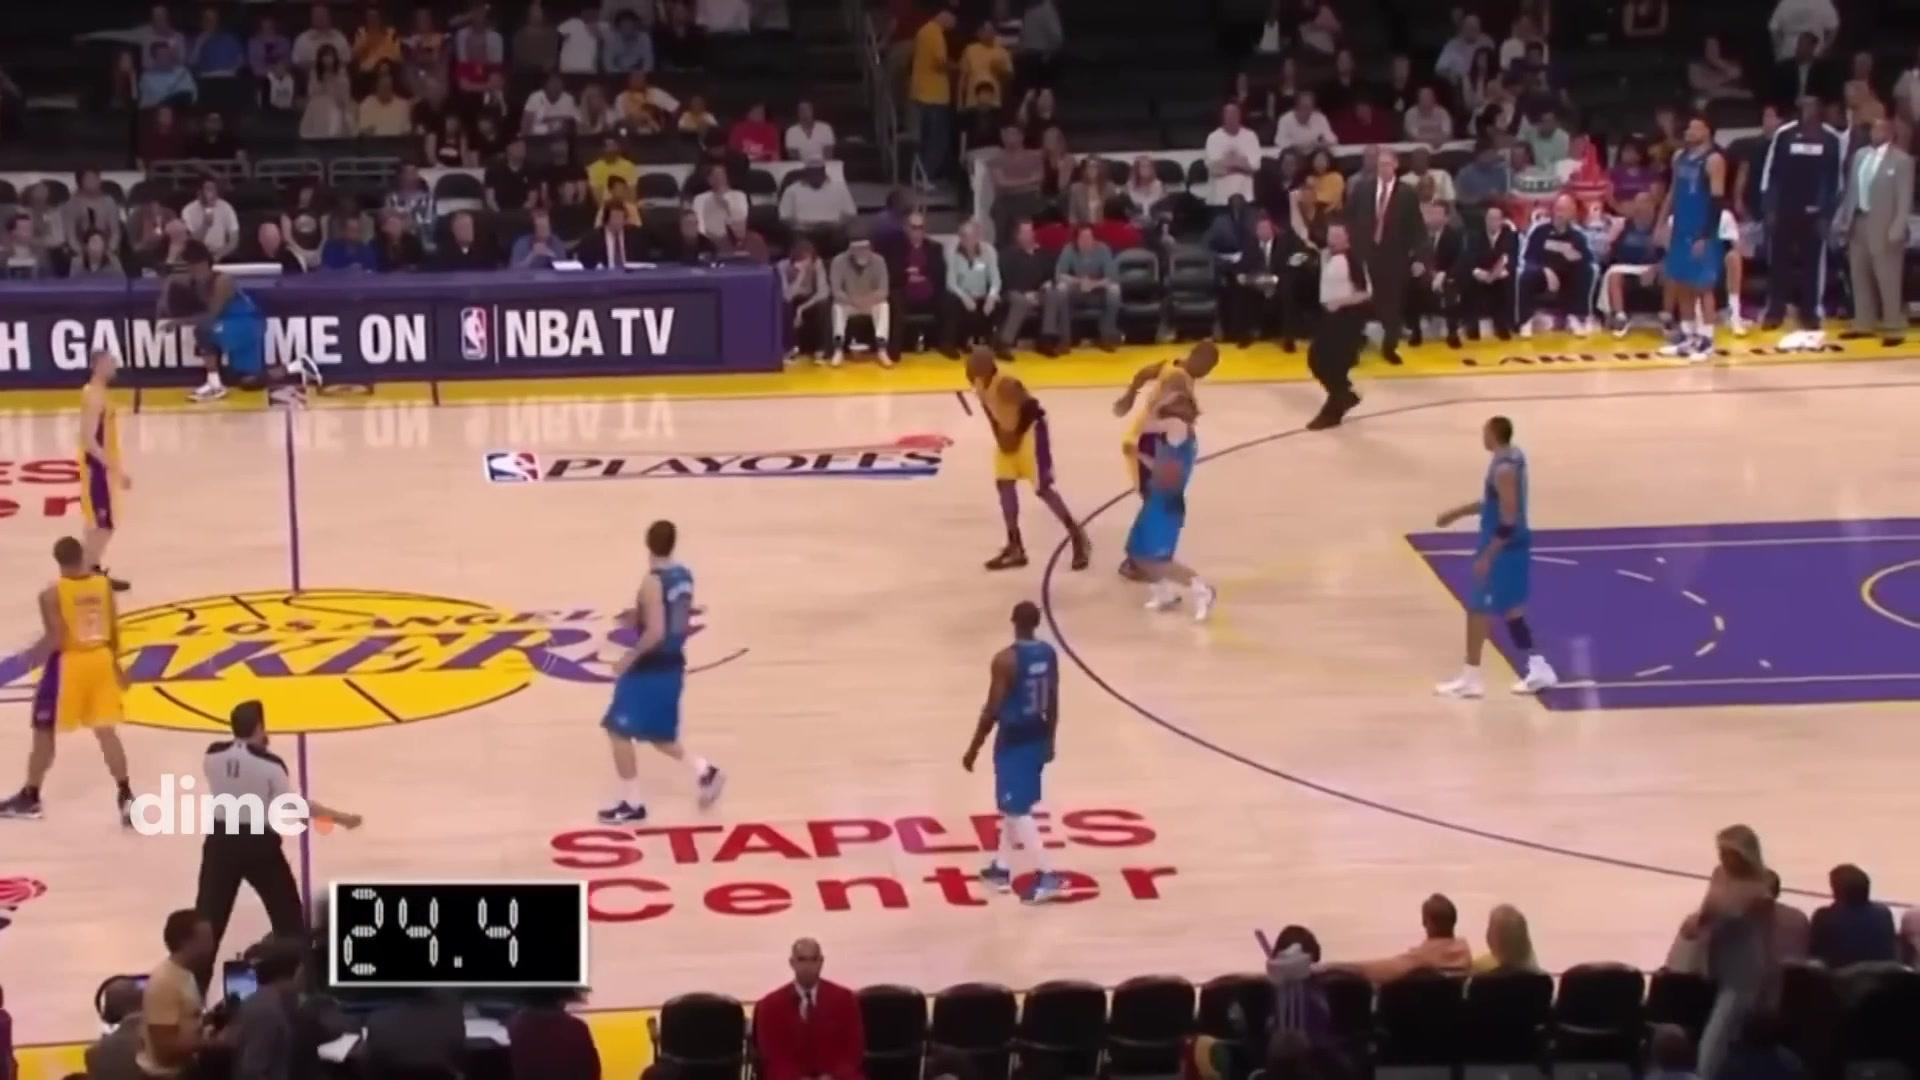foul: (1088, 322, 1222, 616)
